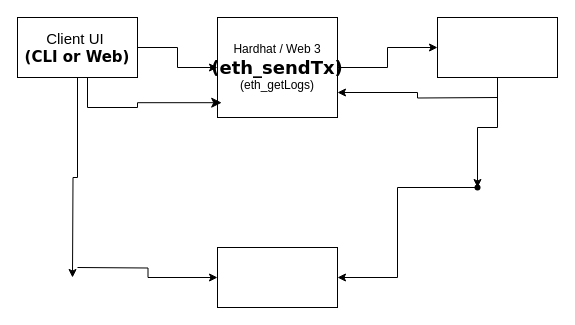
Image size: 575x325. Some labels were removed from this diagram. Here are the shapes that lost their labels. From the top down, the centre of each, then its label:
At point 497,47: "Smart Contract (Sol) Update State & Emits Event".
At point 277,277: "Blockchain Network".
